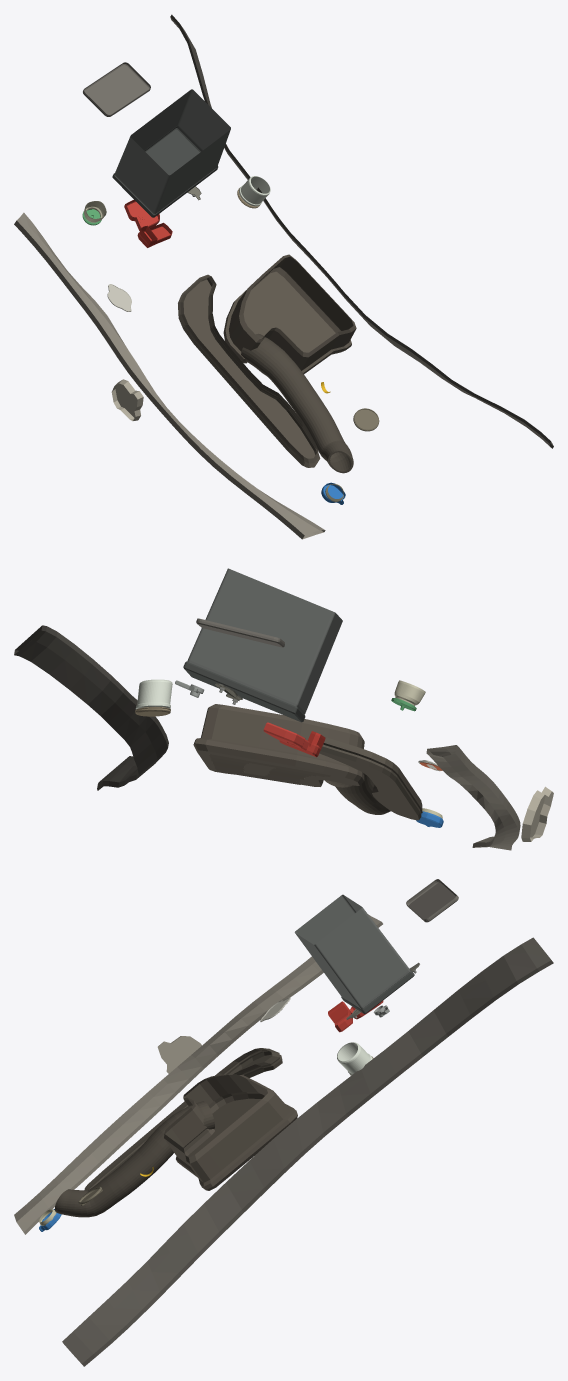
Rendered from swift-service.glb.
The picture shows the model from 3 angles, top to bottom: view 1: azimuth 30°, elevation 25°; view 2: azimuth 150°, elevation 25°; view 3: azimuth 270°, elevation 25°; orthographic projection. The views are drawn at different scales.
Visible parts, largest first — view 1: air_filter, battery, intake_resonator, radiator_support, intake_snorkel, cowl_panel, fuses, positive, hood_latch, brake_fluid; view 2: battery, air_filter, cowl_panel, radiator_support, intake_resonator, hood_latch, intake_snorkel, positive, brake_fluid, fuses, coolant, washer; view 3: cowl_panel, air_filter, radiator_support, battery, intake_snorkel, intake_resonator, fuses, hood_latch, brake_fluid, positive.
Part boxes in pixels (x1,y1,x2,y2): air_filter: (223,254,356,373); battery: (112,89,230,217); intake_resonator: (178,274,320,467); radiator_support: (14,212,325,539); intake_snorkel: (241,333,353,473); cowl_panel: (170,14,553,448); fuses: (83,62,150,116); positive: (124,200,172,247); hood_latch: (111,379,143,420); brake_fluid: (239,176,270,206); battery: (183,568,342,722); air_filter: (193,704,364,786); cowl_panel: (14,625,168,790); radiator_support: (426,745,520,850); intake_resonator: (319,737,422,820); hood_latch: (521,786,553,841); intake_snorkel: (325,772,390,814); positive: (263,722,325,757); brake_fluid: (135,679,172,709); fuses: (196,618,284,647); coolant: (394,680,425,705); washer: (416,808,443,827); cowl_panel: (62,937,553,1366); air_filter: (164,1074,297,1190); radiator_support: (14,914,382,1234); battery: (294,894,414,1013); intake_snorkel: (54,1101,214,1217); intake_resonator: (84,1048,282,1190); fuses: (406,879,458,922); hood_latch: (157,1036,201,1073); brake_fluid: (337,1042,372,1075); positive: (328,1000,383,1032).
Bounding box in the file's own units: 4.76 × 3.62 × 5.17.
